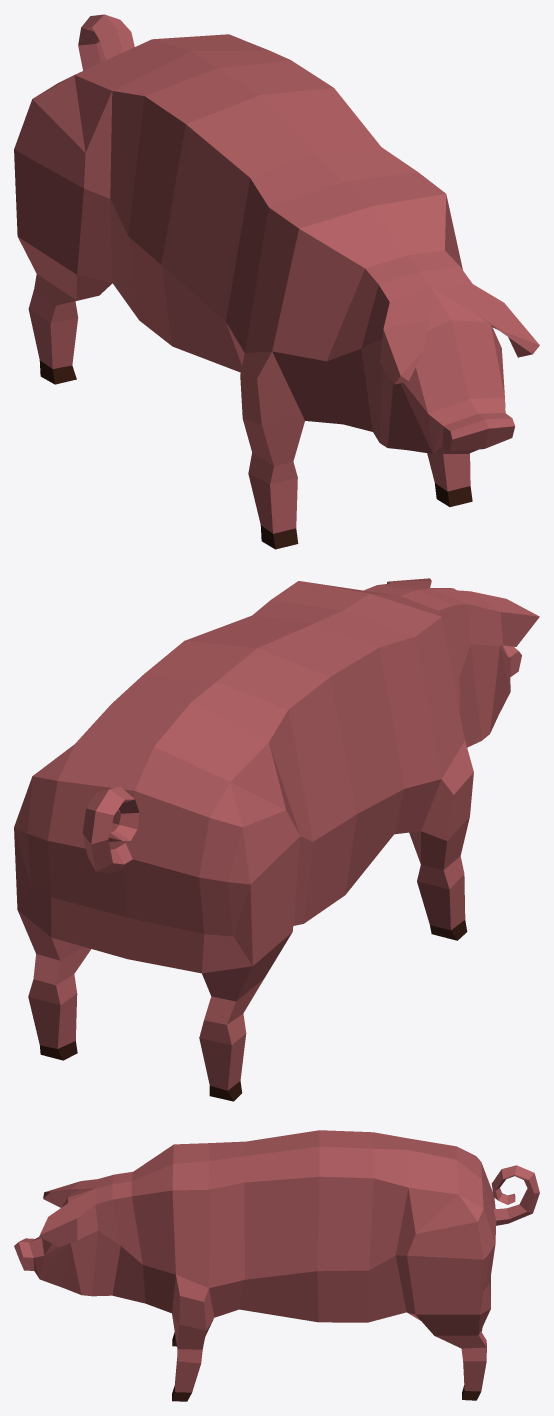
Rendered from Pig_000035.obj.
3 renders of one model, top to bottom at view 1: azimuth 30°, elevation 25°; view 2: azimuth 150°, elevation 25°; view 3: azimuth 270°, elevation 25°, orthographic. The views are drawn at different scales.
Parts seen in each view (by area): view 1: Pig_Cylinder; view 2: Pig_Cylinder; view 3: Pig_Cylinder.
Boxes of the visible parts, x1,y1,x2,y2 form: Pig_Cylinder: (14,14,539,549); Pig_Cylinder: (14,578,539,1101); Pig_Cylinder: (14,1130,539,1401).
Size of the model in its own units: 3.3 by 4.59 by 9.77.
